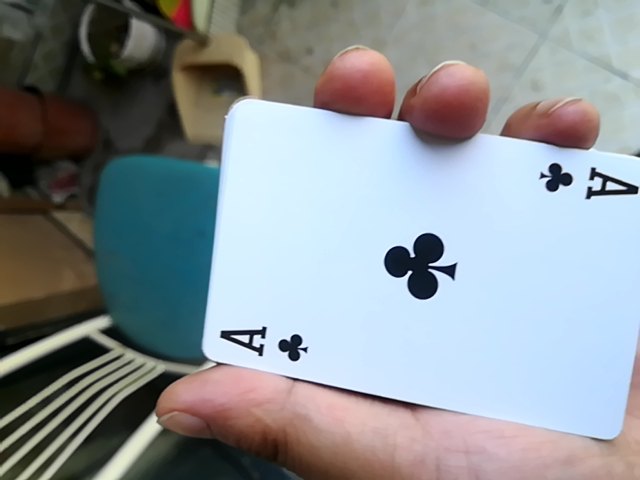mh a: (177, 101, 632, 436)
